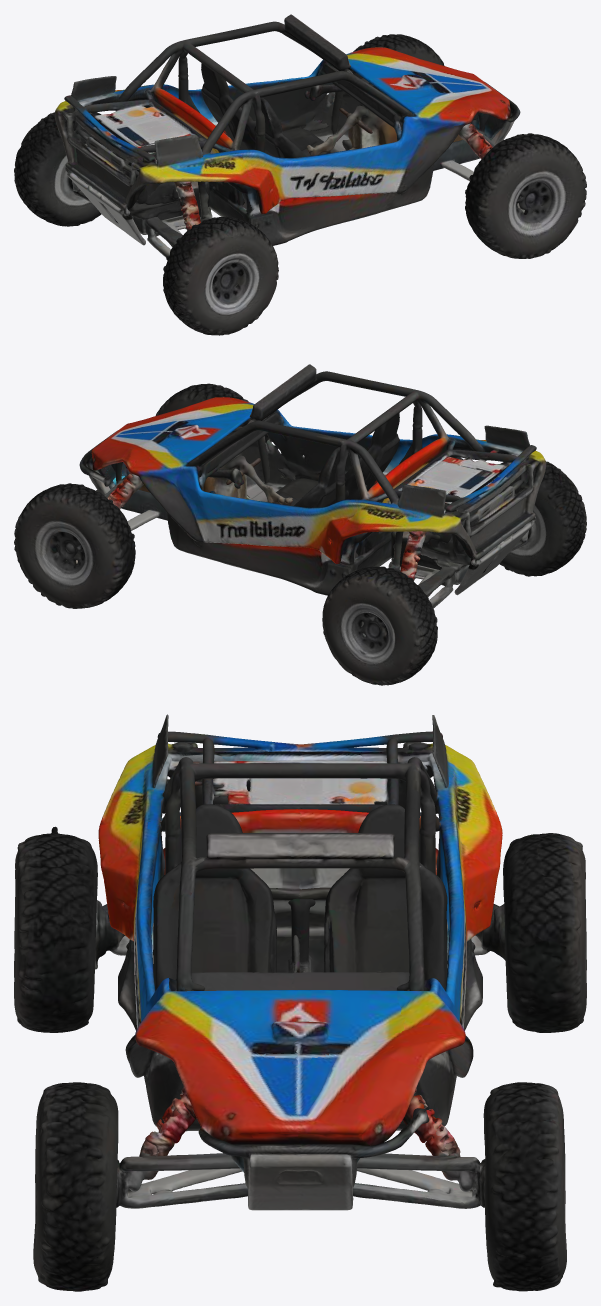
The model's file is car_trailblaze.glb.
3 views of the same model, one above another, from view 1: azimuth 30°, elevation 25°; view 2: azimuth 150°, elevation 25°; view 3: azimuth 270°, elevation 25° (orthographic). The views are drawn at different scales.
Parts seen in each view (by area): view 1: tripo_node_4cda8f2c-4282-4166-ab3c-b12d8e51d138; view 2: tripo_node_4cda8f2c-4282-4166-ab3c-b12d8e51d138; view 3: tripo_node_4cda8f2c-4282-4166-ab3c-b12d8e51d138.
Boxes of the visible parts, x1,y1,x2,y2 form: tripo_node_4cda8f2c-4282-4166-ab3c-b12d8e51d138: (14,14,586,335); tripo_node_4cda8f2c-4282-4166-ab3c-b12d8e51d138: (14,364,586,685); tripo_node_4cda8f2c-4282-4166-ab3c-b12d8e51d138: (14,714,586,1291).
Size of the model in its own units: 1 by 0.4637 by 0.7169.
1 material, 1 textured.
